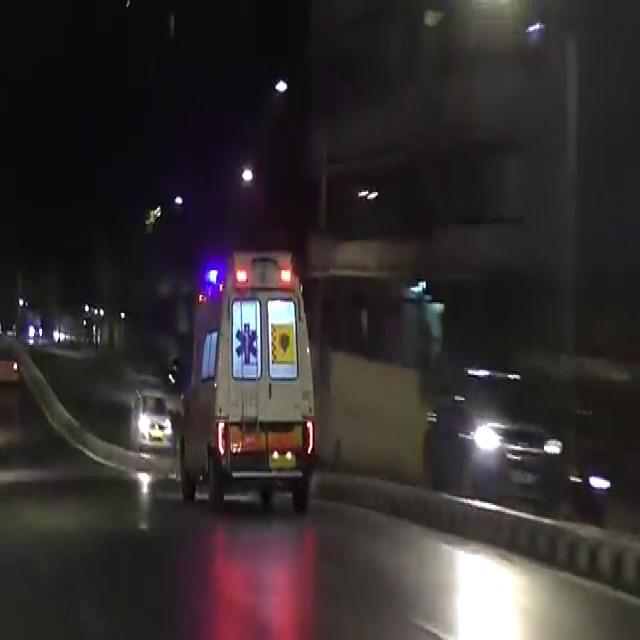ambulance: (186, 248, 326, 524)
